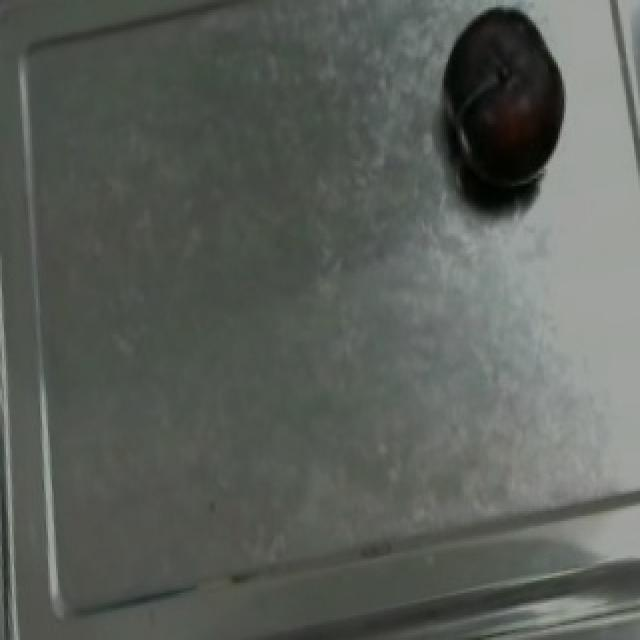Fruit: (430, 0, 580, 216)
